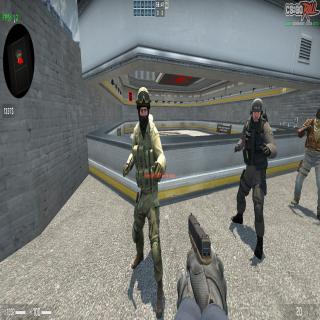CT-Body: (123, 86, 167, 319), (230, 97, 278, 261)
CT-Head: (135, 86, 152, 129), (250, 97, 263, 126)
T-Body: (290, 110, 320, 217)
T-Head: (315, 106, 320, 128)
